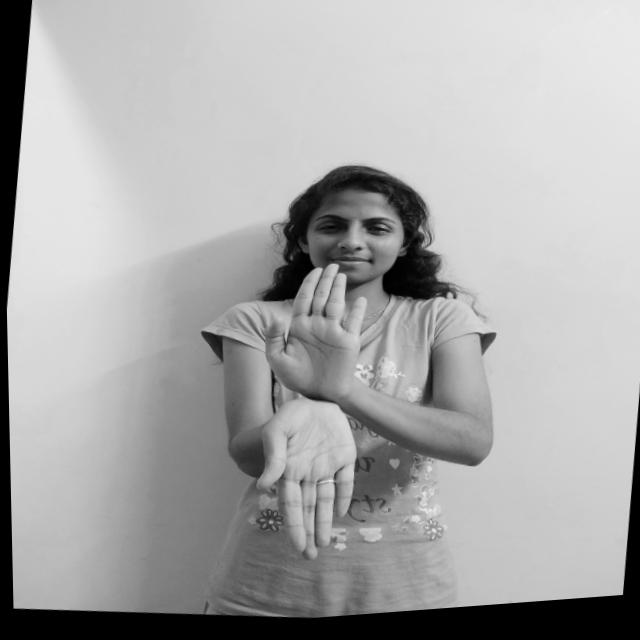Morning: (222, 245, 397, 582)
